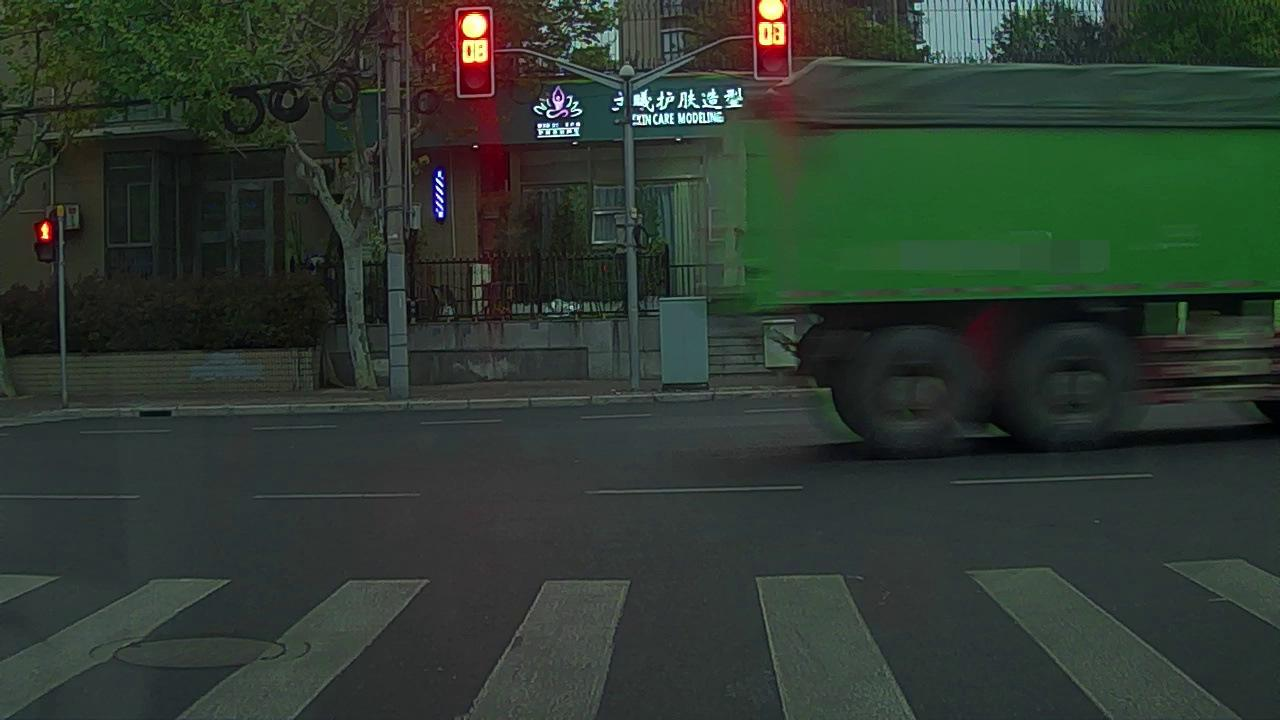traffic_light: (457, 9, 496, 97), (755, 1, 794, 76)
